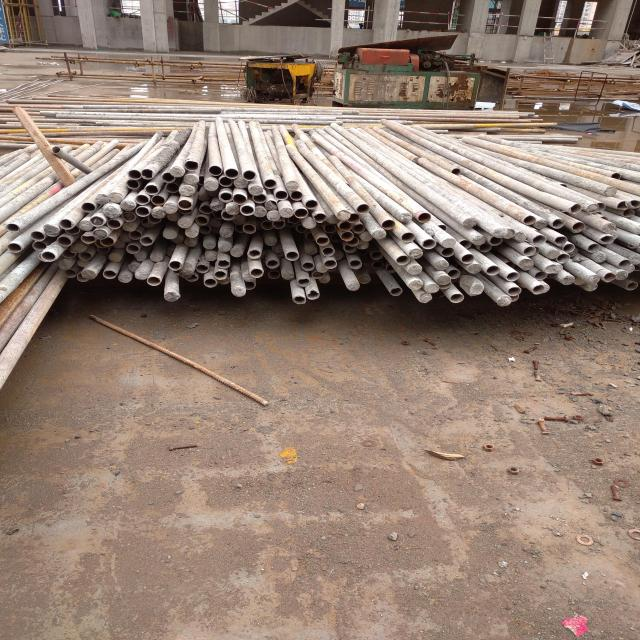pipe: (103, 205, 122, 218), (106, 218, 121, 230), (519, 258, 534, 270), (532, 234, 547, 246), (40, 251, 56, 262), (56, 236, 72, 247), (44, 224, 60, 235), (120, 200, 136, 211), (179, 185, 195, 196), (183, 174, 199, 185), (176, 217, 192, 228), (496, 296, 512, 307), (69, 243, 86, 253), (151, 194, 165, 206), (242, 170, 256, 182), (233, 193, 247, 205), (253, 206, 267, 218), (59, 219, 74, 230), (122, 221, 137, 232), (141, 217, 156, 228), (485, 265, 500, 276), (64, 225, 80, 235), (92, 229, 108, 239), (99, 236, 115, 246), (165, 211, 181, 221), (246, 249, 262, 259), (417, 294, 433, 304), (424, 283, 440, 293), (141, 168, 154, 180), (463, 217, 476, 229), (109, 192, 123, 203), (134, 269, 148, 280), (161, 172, 175, 183), (164, 203, 178, 214), (168, 260, 182, 271), (204, 180, 218, 191), (225, 168, 239, 179), (218, 176, 232, 187), (219, 192, 233, 203), (302, 218, 316, 229), (400, 232, 414, 243), (417, 212, 431, 223), (460, 253, 474, 264), (502, 228, 516, 239), (556, 253, 570, 264), (7, 243, 22, 253), (32, 241, 47, 251), (89, 216, 104, 226), (78, 220, 93, 230), (121, 212, 136, 222), (144, 185, 159, 195), (135, 206, 150, 216), (151, 208, 166, 218), (240, 205, 255, 215), (408, 280, 423, 290), (395, 255, 410, 265), (441, 238, 456, 248), (467, 264, 482, 274), (620, 264, 635, 274), (602, 223, 617, 233), (290, 190, 303, 201), (337, 210, 350, 221), (409, 248, 422, 259), (552, 218, 565, 229), (30, 231, 44, 241), (95, 194, 109, 204), (146, 276, 160, 286), (139, 236, 153, 246), (135, 195, 149, 205), (148, 214, 162, 224), (184, 161, 198, 171), (170, 167, 184, 177), (165, 182, 179, 192), (178, 200, 192, 210), (204, 278, 218, 288), (250, 268, 264, 278), (218, 241, 232, 251), (316, 262, 330, 272), (285, 251, 299, 261), (315, 236, 329, 246), (208, 165, 222, 175), (234, 178, 248, 188), (248, 185, 262, 195), (252, 193, 266, 203), (197, 191, 211, 201), (210, 201, 224, 211), (226, 205, 240, 215), (219, 228, 233, 238), (242, 224, 256, 234), (274, 190, 288, 200), (266, 211, 280, 221), (284, 180, 298, 190), (294, 208, 308, 218), (346, 280, 360, 290), (330, 250, 344, 260), (356, 204, 370, 214), (346, 213, 360, 223), (346, 236, 360, 246), (382, 220, 396, 230), (372, 229, 386, 239), (450, 293, 464, 303), (398, 212, 412, 222), (408, 265, 422, 275), (422, 239, 436, 249), (441, 247, 455, 257), (434, 260, 448, 270), (447, 269, 461, 279), (507, 286, 521, 296), (493, 228, 507, 238), (489, 236, 503, 246), (561, 276, 575, 286), (522, 246, 536, 256), (603, 272, 617, 282), (554, 236, 568, 246), (523, 216, 537, 226), (621, 208, 635, 218), (81, 270, 96, 279), (76, 258, 91, 267), (164, 292, 179, 301), (199, 205, 214, 214), (457, 240, 472, 249), (585, 275, 600, 284), (272, 243, 284, 254), (222, 210, 234, 221), (326, 213, 338, 224), (573, 221, 585, 232), (570, 203, 582, 214), (119, 232, 132, 242), (112, 238, 125, 248), (133, 252, 146, 262), (128, 263, 141, 273), (126, 179, 139, 189), (185, 228, 198, 238), (171, 234, 184, 244), (266, 259, 279, 269), (267, 270, 280, 280), (293, 295, 306, 305), (306, 290, 319, 300), (324, 259, 337, 269), (195, 216, 208, 226), (212, 209, 225, 219), (208, 218, 221, 228), (198, 224, 211, 234), (263, 179, 276, 189), (313, 213, 326, 223), (356, 239, 369, 249), (437, 275, 450, 285), (472, 236, 485, 246), (479, 242, 492, 252), (545, 264, 558, 274), (594, 252, 607, 262), (547, 250, 560, 260), (604, 186, 617, 196), (62, 249, 76, 258), (102, 270, 116, 279), (108, 253, 122, 262), (81, 203, 95, 212), (81, 235, 95, 244), (94, 239, 108, 248), (96, 244, 110, 253), (128, 231, 142, 240), (127, 170, 141, 179), (162, 230, 176, 239), (242, 281, 256, 290), (204, 252, 218, 261), (304, 200, 318, 209), (348, 260, 362, 269), (506, 272, 520, 281), (534, 271, 548, 280), (572, 276, 586, 285), (562, 244, 576, 253), (600, 235, 614, 244), (534, 220, 548, 229), (586, 204, 600, 213), (5, 224, 20, 232), (178, 206, 193, 214), (184, 237, 196, 247), (231, 288, 246, 296), (214, 270, 226, 280), (306, 232, 318, 242), (233, 214, 245, 224), (265, 200, 277, 210), (280, 208, 292, 218), (284, 218, 296, 228), (324, 223, 336, 233), (353, 224, 365, 234), (538, 284, 550, 294), (514, 232, 526, 242), (588, 243, 600, 253), (606, 230, 618, 240), (76, 273, 89, 282), (126, 245, 139, 254), (150, 253, 163, 262), (179, 269, 192, 278), (185, 273, 198, 282), (301, 262, 314, 271), (264, 237, 277, 246), (322, 247, 335, 256), (305, 246, 318, 255), (234, 224, 247, 233), (287, 215, 300, 224), (295, 224, 308, 233), (330, 233, 343, 242), (344, 244, 357, 253), (371, 251, 384, 260), (532, 285, 545, 294), (585, 282, 598, 291), (615, 271, 628, 280), (58, 261, 72, 269), (78, 252, 92, 260), (118, 274, 132, 282), (564, 248, 578, 256), (261, 220, 272, 230), (230, 248, 242, 257), (282, 271, 294, 280), (341, 232, 353, 241), (356, 246, 368, 255), (372, 261, 384, 270), (386, 264, 398, 273), (203, 241, 216, 249), (297, 278, 310, 286), (207, 189, 220, 197), (272, 220, 285, 228), (618, 260, 631, 268), (530, 246, 540, 256), (595, 202, 605, 212), (166, 248, 177, 257), (437, 224, 448, 233), (627, 282, 638, 291), (64, 270, 76, 278), (218, 276, 230, 284), (196, 265, 208, 273), (243, 274, 255, 282), (218, 260, 230, 268), (319, 275, 331, 283), (312, 271, 324, 279), (361, 233, 373, 241), (390, 288, 402, 296), (439, 281, 451, 289), (507, 294, 519, 302), (616, 201, 628, 209), (359, 276, 370, 284), (504, 261, 515, 269), (629, 200, 640, 208), (610, 173, 622, 180), (451, 168, 461, 176), (51, 146, 60, 154)
